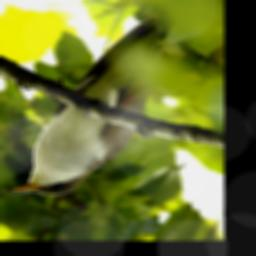Cuckoo: (5, 9, 178, 198)
